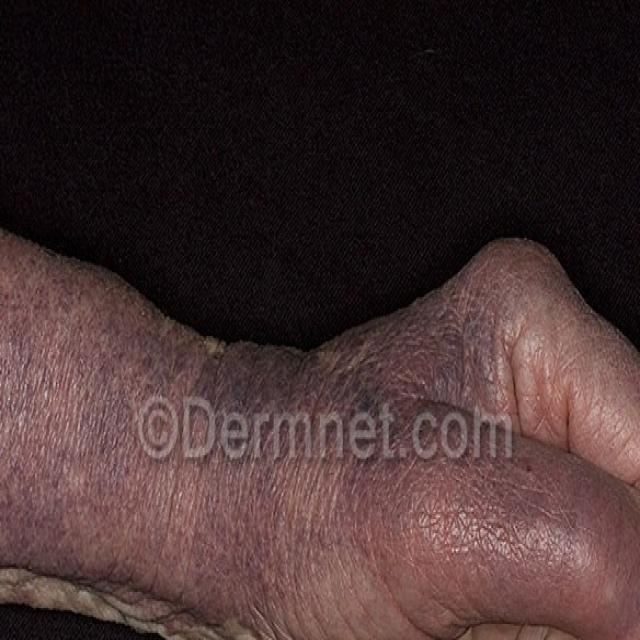Vascular Tumors: (0, 252, 544, 592)
